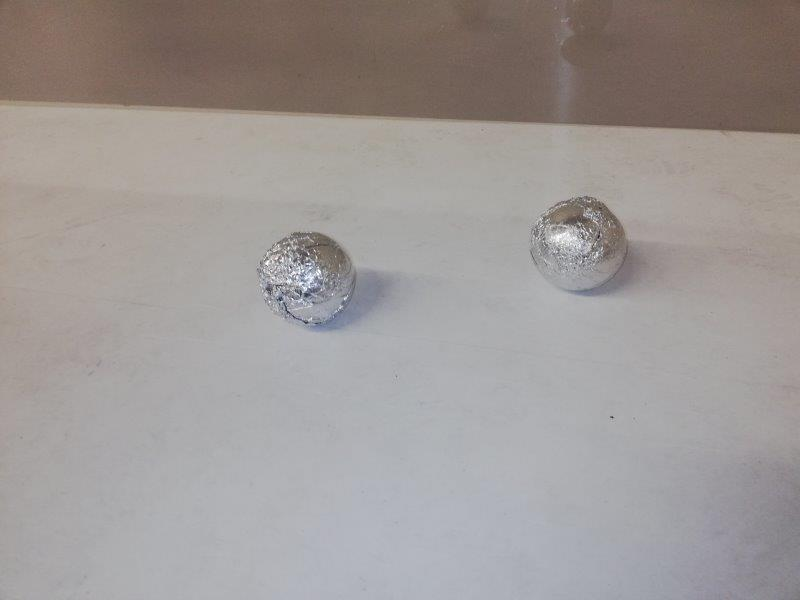bianca: (259, 230, 359, 327), (530, 198, 628, 296)
